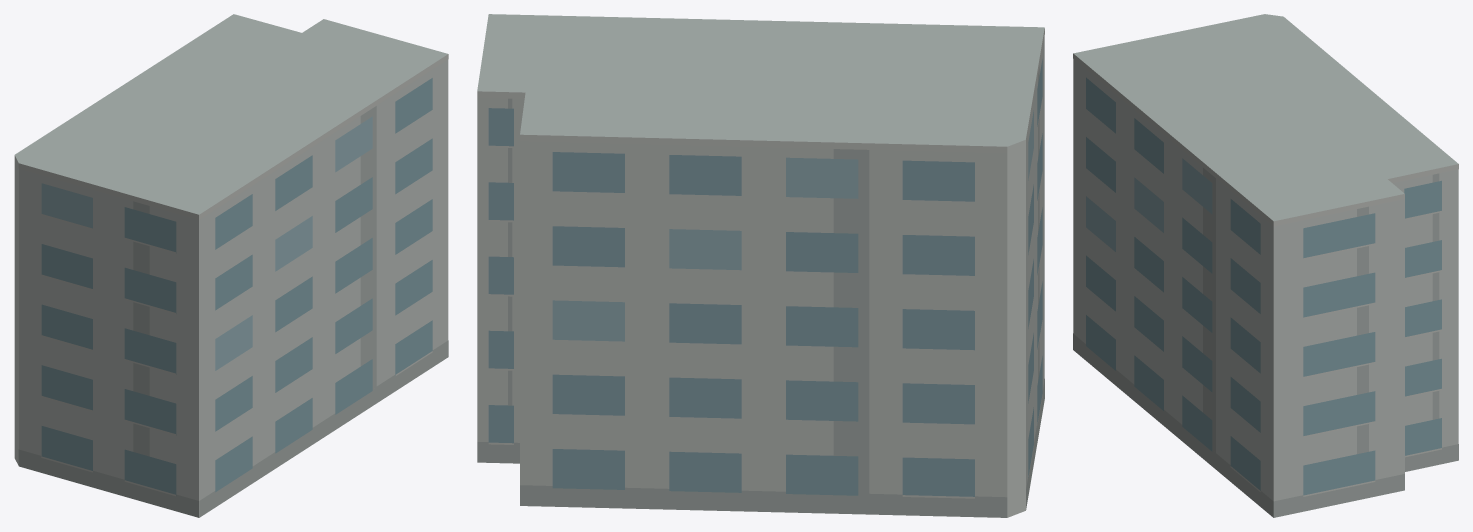
Rendered from survey-upis-32940683.glb.
3 views of the same model, side by side, from view 1: azimuth 30°, elevation 25°; view 2: azimuth 150°, elevation 25°; view 3: azimuth 270°, elevation 25° (orthographic). The views are drawn at different scales.
Visible parts, largest first — view 1: survey-upis-32940683.tmp; view 2: survey-upis-32940683.tmp; view 3: survey-upis-32940683.tmp.
Boxes of the visible parts, <box> form: survey-upis-32940683.tmp: <box>14,14,448,517</box>; survey-upis-32940683.tmp: <box>477,14,1044,517</box>; survey-upis-32940683.tmp: <box>1073,14,1458,517</box>.
Size of the model in its own units: 20.7 by 13.8 by 16.27.
